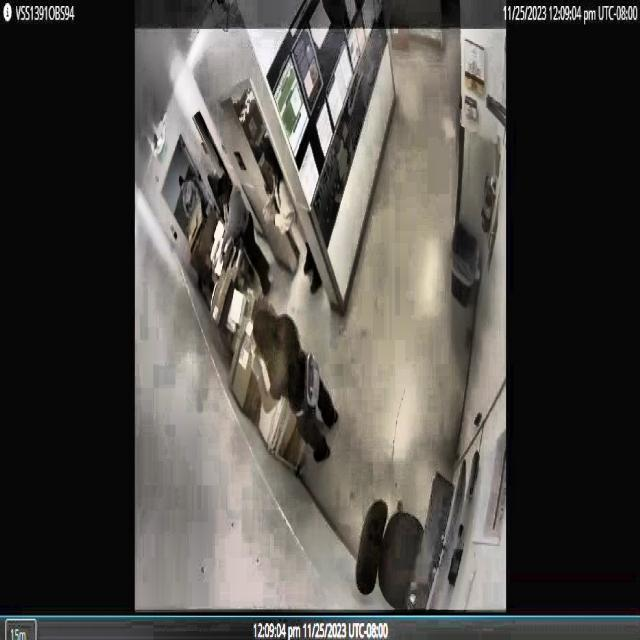not-gloved: (248, 350, 268, 399)
